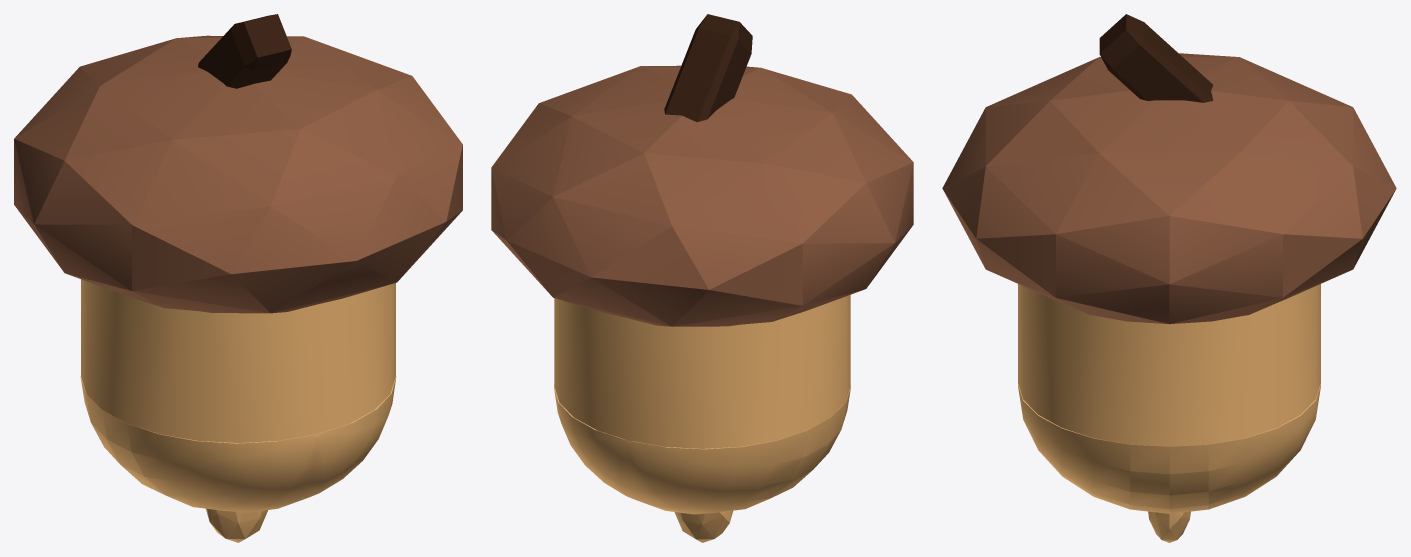
Rendered from acornBullet.fbx.
The picture shows the model from 3 angles, left to right: view 1: azimuth 30°, elevation 25°; view 2: azimuth 150°, elevation 25°; view 3: azimuth 270°, elevation 25°; orthographic projection. The views are drawn at different scales.
Parts seen in each view (by area): view 1: sphere_vertex_10, cylinder_full_4, sphere_dome_8, block_rounded_11, sphere_vertex_9; view 2: sphere_vertex_10, cylinder_full_4, sphere_dome_8, block_rounded_11, sphere_vertex_9; view 3: sphere_vertex_10, cylinder_full_4, sphere_dome_8, block_rounded_11, sphere_vertex_9.
Boxes of the visible parts, box(x1,y1,x2,y2) form: sphere_vertex_10: box(14, 35, 462, 313); cylinder_full_4: box(81, 279, 395, 442); sphere_dome_8: box(80, 376, 396, 512); block_rounded_11: box(198, 14, 291, 88); sphere_vertex_9: box(206, 508, 267, 542); sphere_vertex_10: box(491, 65, 913, 326); cylinder_full_4: box(554, 295, 850, 448); sphere_dome_8: box(554, 385, 850, 514); block_rounded_11: box(664, 14, 752, 122); sphere_vertex_9: box(674, 510, 732, 542); sphere_vertex_10: box(942, 53, 1396, 324); cylinder_full_4: box(1018, 284, 1320, 446); sphere_dome_8: box(1018, 383, 1320, 513); block_rounded_11: box(1099, 14, 1213, 102); sphere_vertex_9: box(1148, 511, 1190, 542).
Bounding box in the file's own units: 18 × 22.77 × 18.
